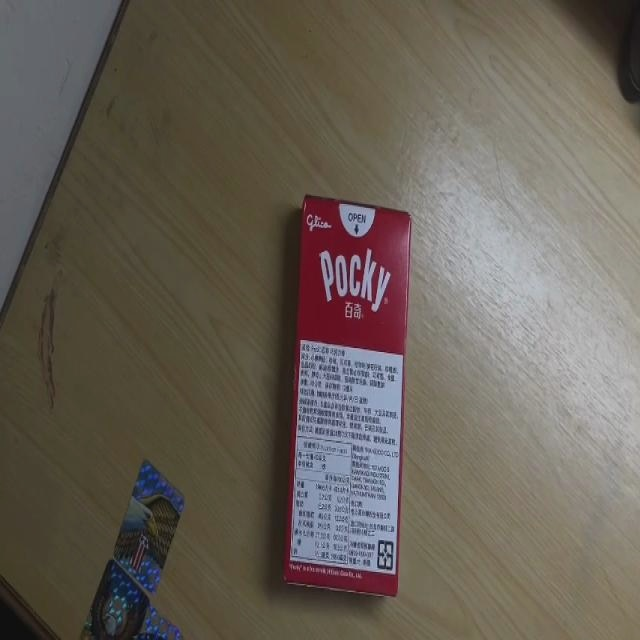Pocky: (282, 193, 412, 597)
